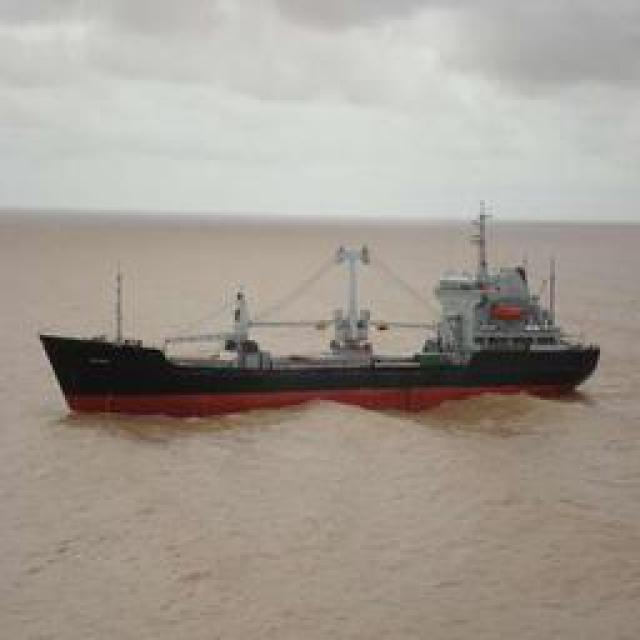Ship: (36, 231, 609, 421)
